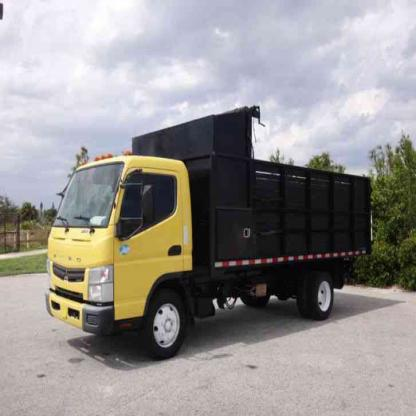truck: (47, 156, 370, 360)
